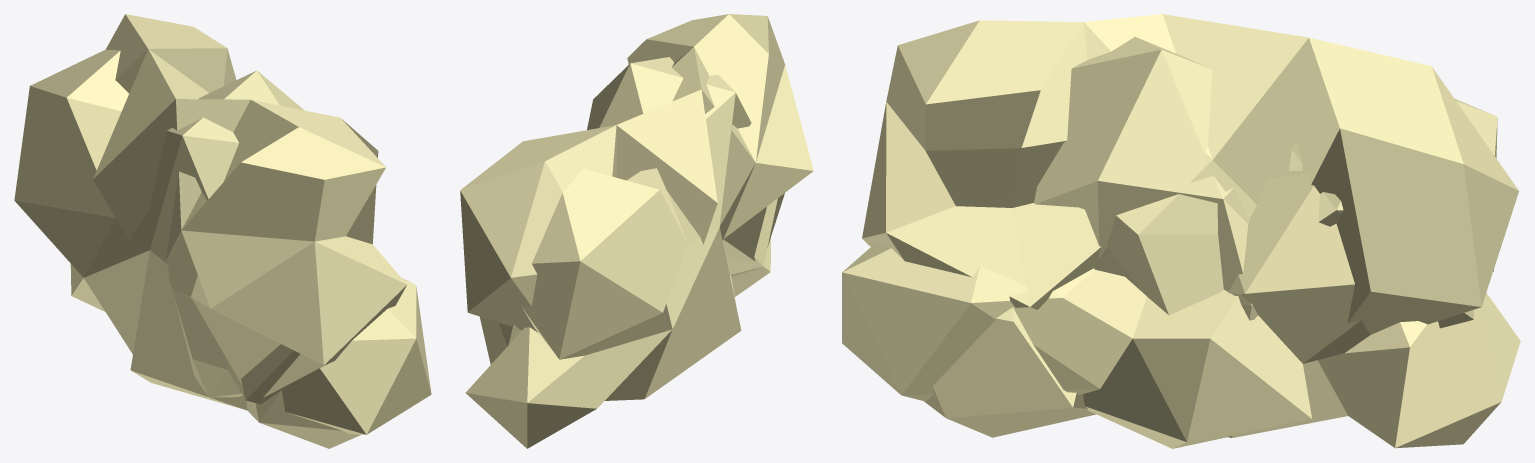
Rendered from cloud3.fbx.
3 renders of one model, left to right at view 1: azimuth 30°, elevation 25°; view 2: azimuth 150°, elevation 25°; view 3: azimuth 270°, elevation 25°, orthographic. The views are drawn at different scales.
Visible parts, largest first — view 1: cloud3, cloud2, cloud; view 2: cloud2, cloud3, cloud; view 3: cloud3, cloud, cloud2.
Boxes of the visible parts, x1,y1,x2,y2 form: cloud3: (93, 14, 407, 403); cloud2: (14, 49, 361, 448); cloud: (173, 278, 431, 434); cloud2: (465, 57, 770, 448); cloud3: (460, 14, 813, 332); cloud: (498, 198, 777, 345); cloud3: (862, 14, 1518, 334); cloud: (842, 170, 1473, 448); cloud2: (924, 36, 1520, 448).
Bounding box in the file's own units: 272 × 368 × 551.
